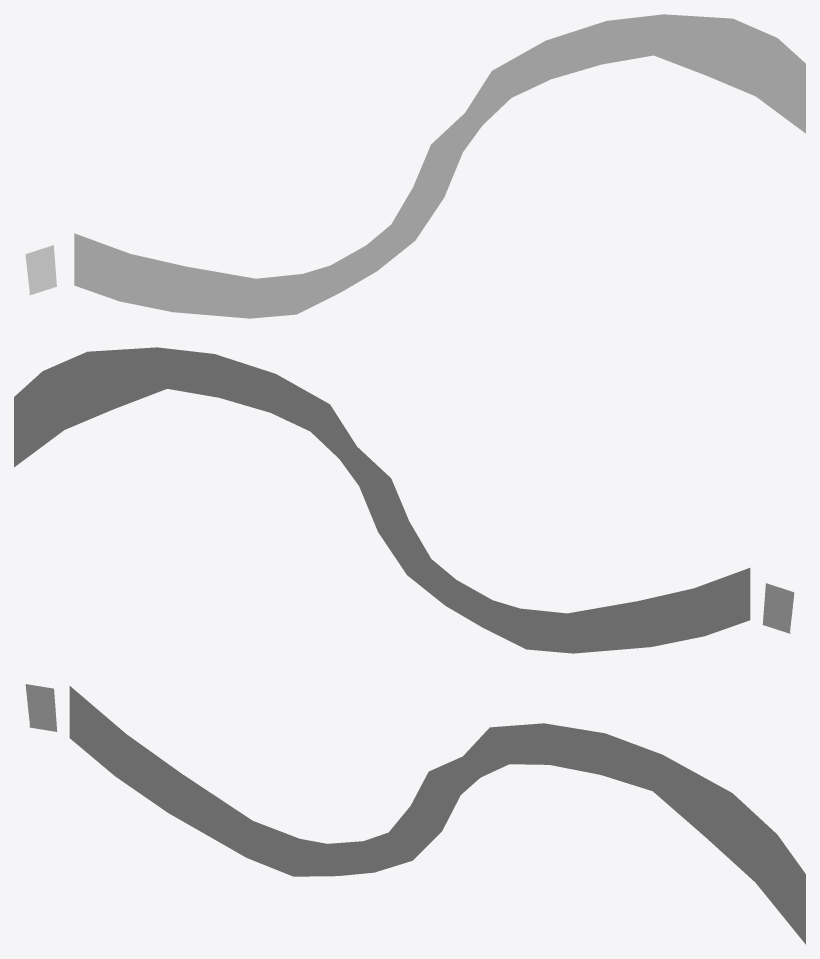
File: Violinista_Mascara_05.fbx
3 renders of one model, top to bottom at view 1: azimuth 30°, elevation 25°; view 2: azimuth 150°, elevation 25°; view 3: azimuth 330°, elevation 25°, orthographic.
Visible parts, largest first — view 1: Violinista_Mascara_05; view 2: Violinista_Mascara_05; view 3: Violinista_Mascara_05.
Part boxes in pixels (bbox=[...]): Violinista_Mascara_05: bbox=[25, 14, 805, 318]; Violinista_Mascara_05: bbox=[14, 347, 794, 653]; Violinista_Mascara_05: bbox=[25, 684, 805, 944].
Size of the model in its own units: 4316 by 1139 by 23.
